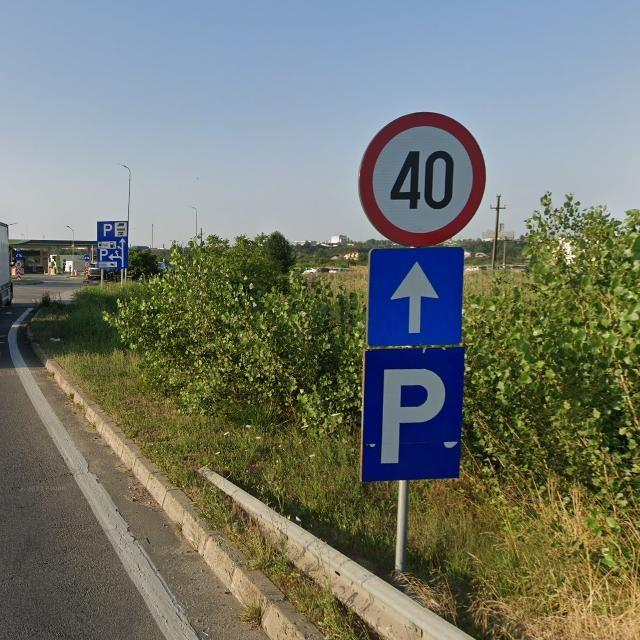forb_speed_over_40: (358, 111, 487, 247)
